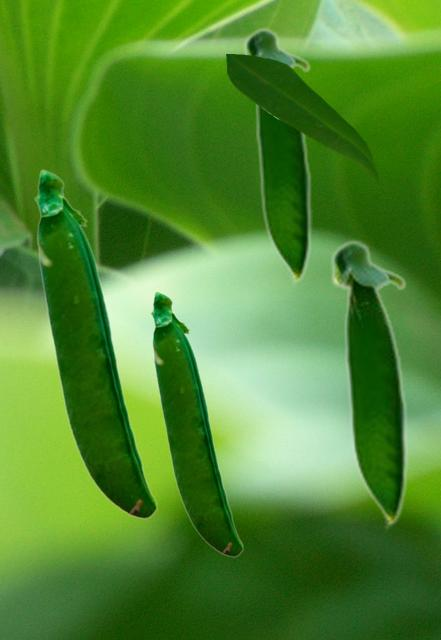pea: (34, 168, 156, 518), (150, 290, 242, 556), (329, 238, 407, 530), (242, 26, 311, 286)
